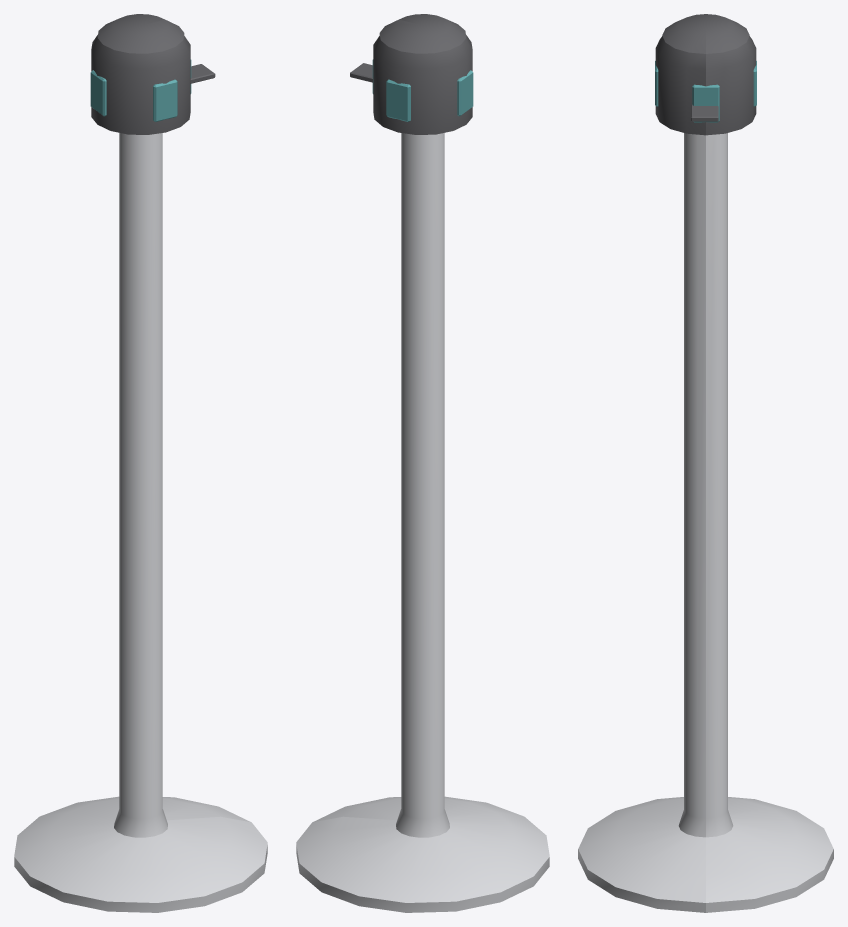
File: fast-food-and-drive-thru-queue-barrier-post-9aa56d41__16115.glb
3 renders of one model, left to right at view 1: azimuth 30°, elevation 25°; view 2: azimuth 150°, elevation 25°; view 3: azimuth 270°, elevation 25°, orthographic.
Visible parts, largest first — view 1: queue-barrier-post; view 2: queue-barrier-post; view 3: queue-barrier-post.
Part boxes in pixels (bbox=[...]): queue-barrier-post: bbox=[14, 14, 267, 912]; queue-barrier-post: bbox=[296, 14, 549, 912]; queue-barrier-post: bbox=[578, 14, 833, 912].
Size of the model in its own units: 0.28 by 1.01 by 0.28.
